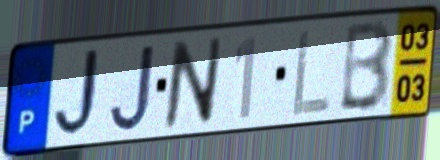1: (233, 33, 259, 122)
B: (336, 17, 396, 114)
J: (52, 44, 108, 142), (107, 41, 159, 136)
L: (289, 25, 334, 119)
N: (161, 34, 225, 131)
